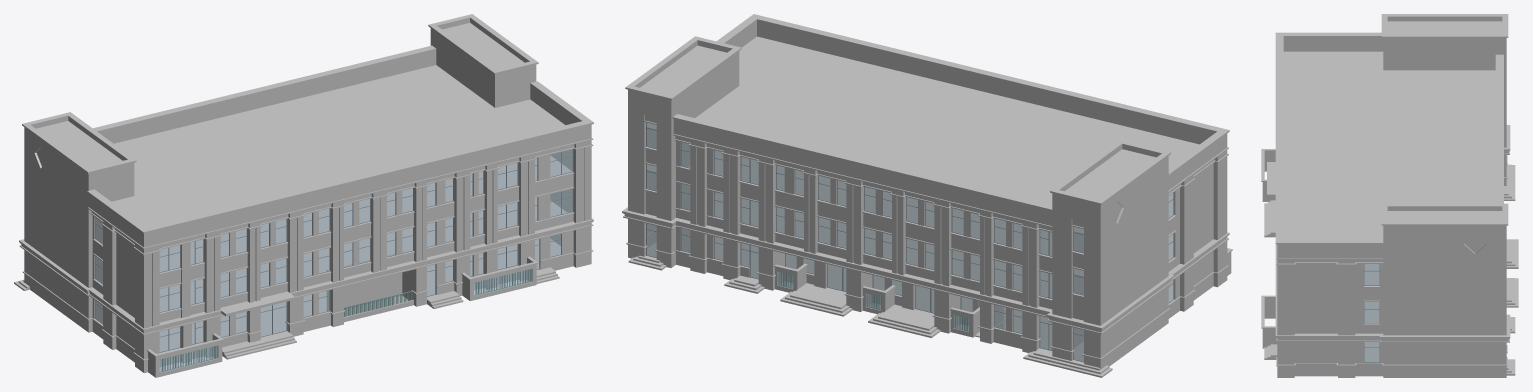
The model's file is lou01.fbx.
3 views of the same model, side by side, from view 1: azimuth 30°, elevation 25°; view 2: azimuth 150°, elevation 25°; view 3: azimuth 270°, elevation 25° (orthographic). The views are drawn at different scales.
Parts seen in each view (by area): view 1: Obj3d66-1371392-1-185; view 2: Obj3d66-1371392-1-185; view 3: Obj3d66-1371392-1-185.
Boxes of the visible parts, left/top/right/bottom form: Obj3d66-1371392-1-185: left=14, top=14, right=593, bottom=377; Obj3d66-1371392-1-185: left=622, top=14, right=1232, bottom=377; Obj3d66-1371392-1-185: left=1261, top=14, right=1518, bottom=377.
Size of the model in its own units: 4664 by 1575 by 2377.
